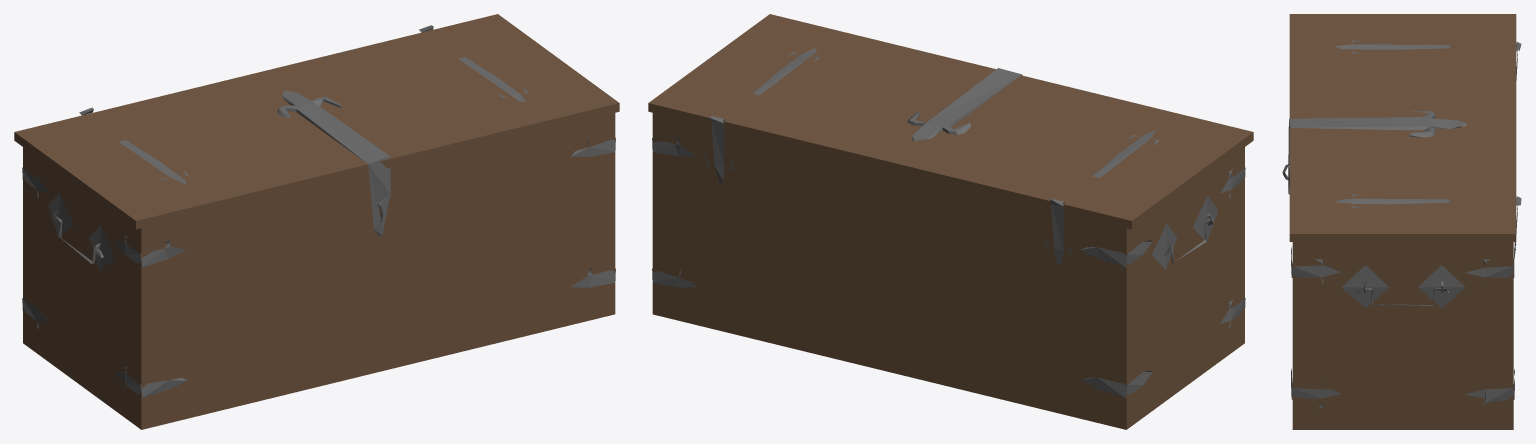
Rendered from medieval-chest-b.lod0.glb.
The picture shows the model from 3 angles, left to right: view 1: azimuth 30°, elevation 25°; view 2: azimuth 150°, elevation 25°; view 3: azimuth 270°, elevation 25°; orthographic projection. The views are drawn at different scales.
Visible parts, largest first — view 1: Medieval_Crate_LP_Material.001_0; view 2: Medieval_Crate_LP_Material.001_0; view 3: Medieval_Crate_LP_Material.001_0.
Boxes of the visible parts, x1,y1,x2,y2 form: Medieval_Crate_LP_Material.001_0: [14, 14, 619, 429]; Medieval_Crate_LP_Material.001_0: [648, 14, 1253, 429]; Medieval_Crate_LP_Material.001_0: [1282, 14, 1521, 429].
Bounding box in the file's own units: 1.2 × 0.5043 × 0.5443.
